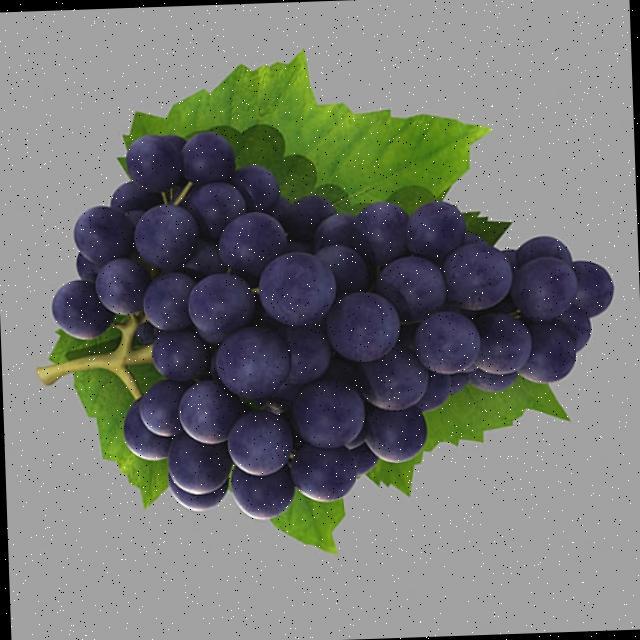grape: (36, 119, 610, 519)
